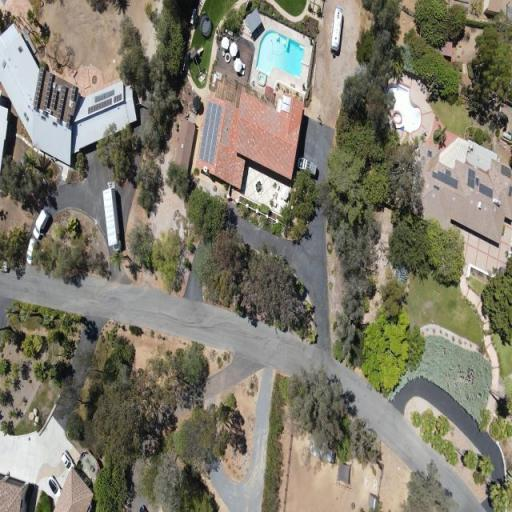solar-panel: (199, 100, 223, 164), (432, 169, 458, 189), (42, 72, 53, 116), (33, 68, 44, 111), (88, 97, 112, 115), (56, 84, 66, 124), (479, 183, 493, 198), (467, 168, 475, 189), (501, 164, 511, 177), (51, 89, 57, 109), (70, 84, 76, 100), (65, 113, 71, 128), (114, 93, 122, 104)
